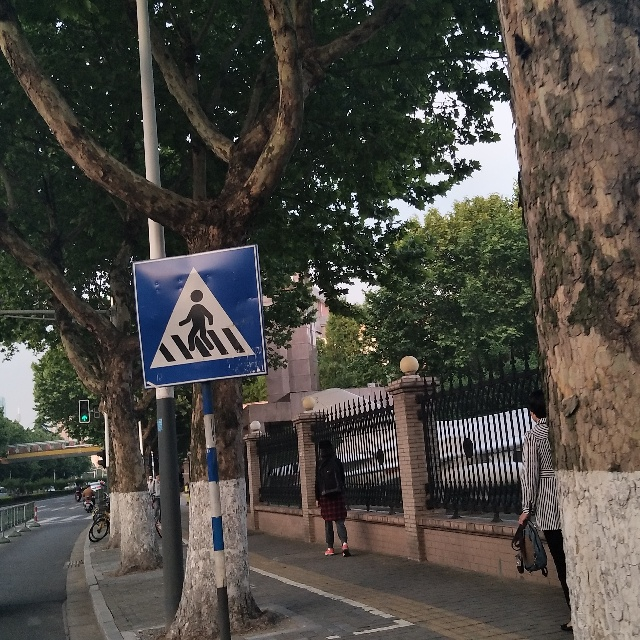crosswalk: (145, 263, 264, 377)
